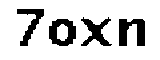7: (8, 6, 47, 51)
n: (117, 16, 149, 50)
o: (46, 16, 77, 49)
x: (80, 15, 114, 51)
